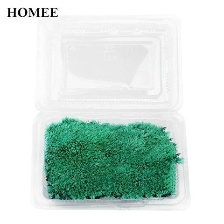plastic_box: (27, 12, 195, 214)
